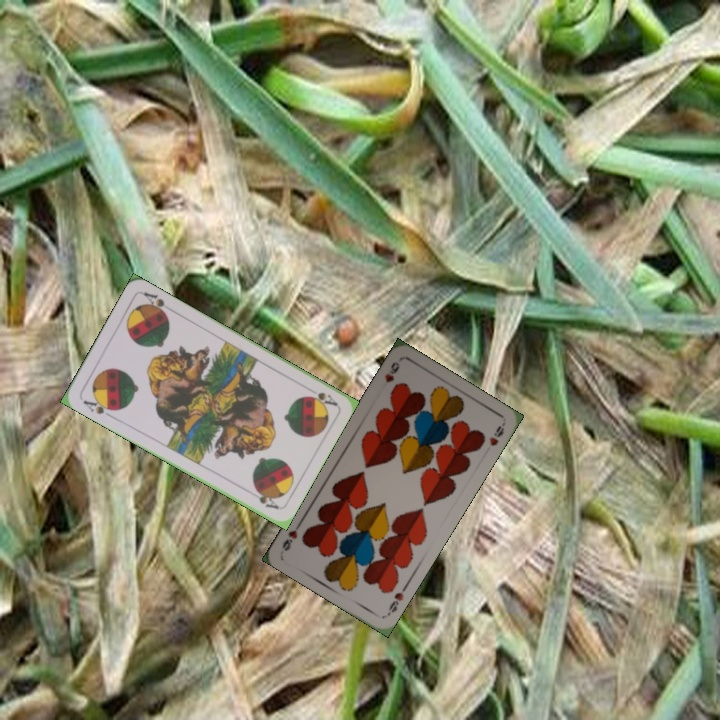H9: (383, 582, 409, 618), (380, 358, 402, 385)
SA: (79, 394, 119, 421), (302, 383, 340, 409)
